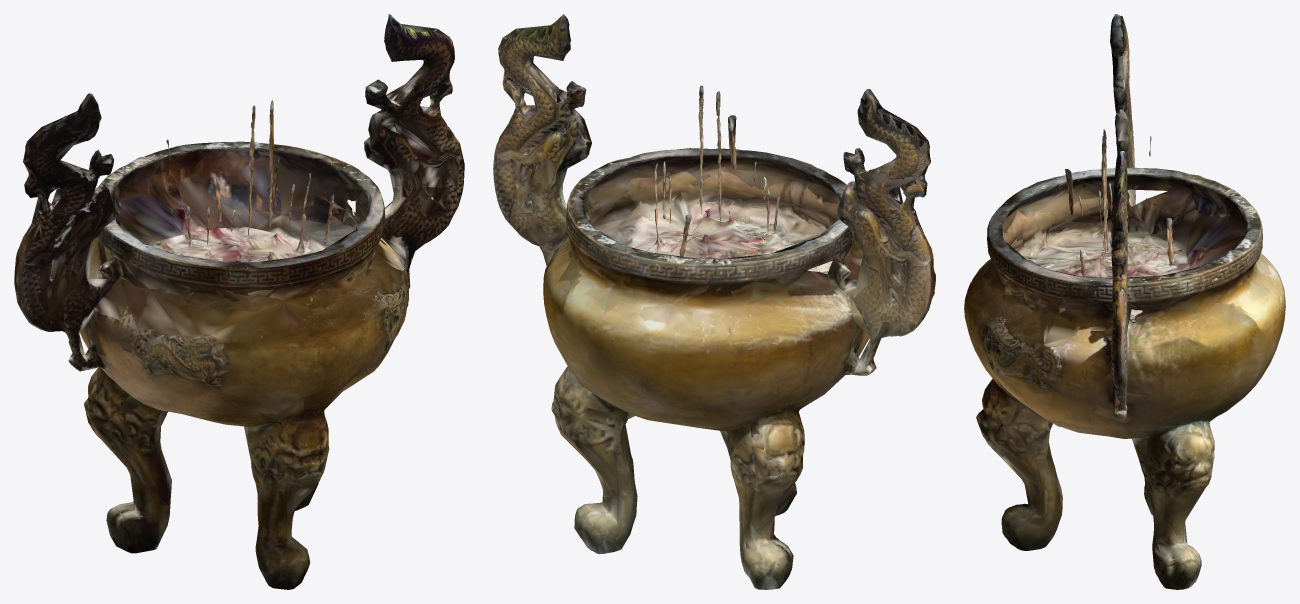
Rendered from censer-urn.glb.
The picture shows the model from 3 angles, left to right: view 1: azimuth 30°, elevation 25°; view 2: azimuth 150°, elevation 25°; view 3: azimuth 270°, elevation 25°; orthographic projection. The views are drawn at different scales.
Visible parts, largest first — view 1: censer-urn, censer-urn-small; view 2: censer-urn, censer-urn-small; view 3: censer-urn, censer-urn-small.
Boxes of the visible parts, x1=… form: censer-urn: x1=14, y1=14, x2=464, y2=589; censer-urn-small: x1=16, y1=14, x2=464, y2=588; censer-urn: x1=493, y1=14, x2=935, y2=589; censer-urn-small: x1=496, y1=16, x2=934, y2=589; censer-urn: x1=964, y1=14, x2=1285, y2=589; censer-urn-small: x1=972, y1=16, x2=1284, y2=589.
Size of the model in its own units: 0.9226 by 0.9751 by 0.6121.
1 material, 1 textured.
